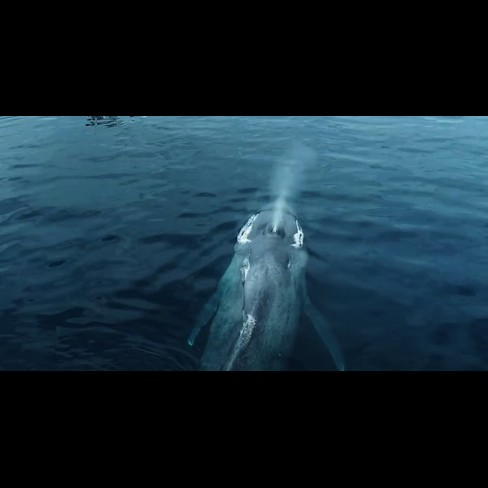bluewhale: (179, 194, 352, 372)
